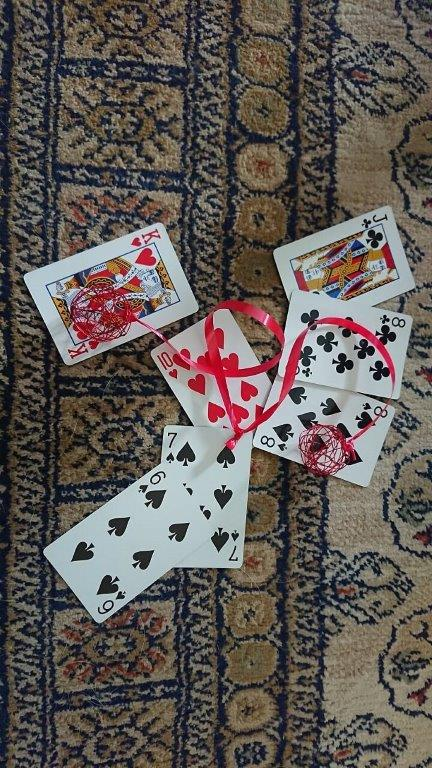10H: (153, 347, 178, 380)
6S: (136, 467, 164, 495)
7S: (163, 429, 178, 465)
JC: (360, 210, 390, 231)
KH: (128, 225, 163, 249)
